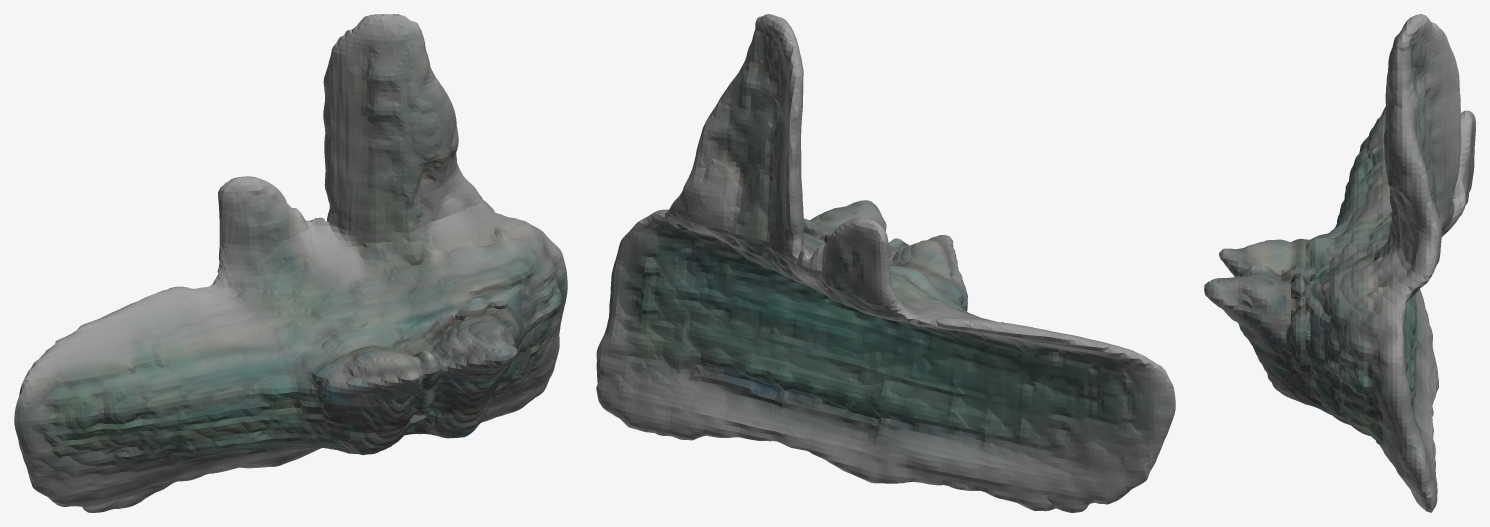
The model's file is monet_impression_sunrise.glb.
3 views of the same model, side by side, from view 1: azimuth 30°, elevation 25°; view 2: azimuth 150°, elevation 25°; view 3: azimuth 270°, elevation 25° (orthographic). The views are drawn at different scales.
Visible parts, largest first — view 1: world; view 2: world; view 3: world.
Part boxes in pixels (x1=…): world: x1=14, y1=14, x2=567, y2=512; world: x1=596, y1=14, x2=1175, y2=512; world: x1=1204, y1=14, x2=1475, y2=512.
Size of the model in its own units: 0.8959 by 0.6669 by 0.3842.
